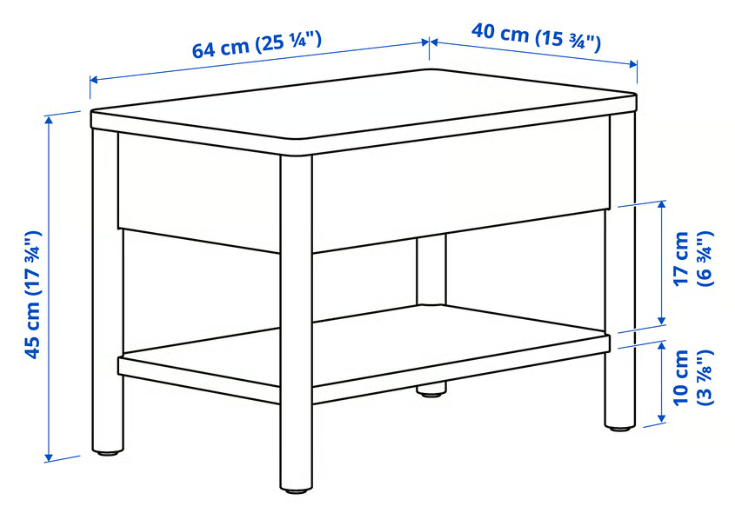table_legs: (280, 155, 312, 494), (93, 129, 123, 454), (605, 112, 635, 431), (417, 234, 446, 305), (417, 382, 446, 396)
table_shelf: (312, 305, 610, 405), (118, 328, 280, 405)
table_support: (312, 115, 610, 253), (118, 133, 281, 254)
table_top: (91, 68, 637, 157)
